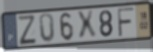0: (38, 12, 56, 44)
6: (59, 12, 75, 43)
8: (98, 10, 114, 39)
F: (117, 7, 136, 39)
X: (75, 9, 98, 42)
Z: (16, 15, 38, 47)
